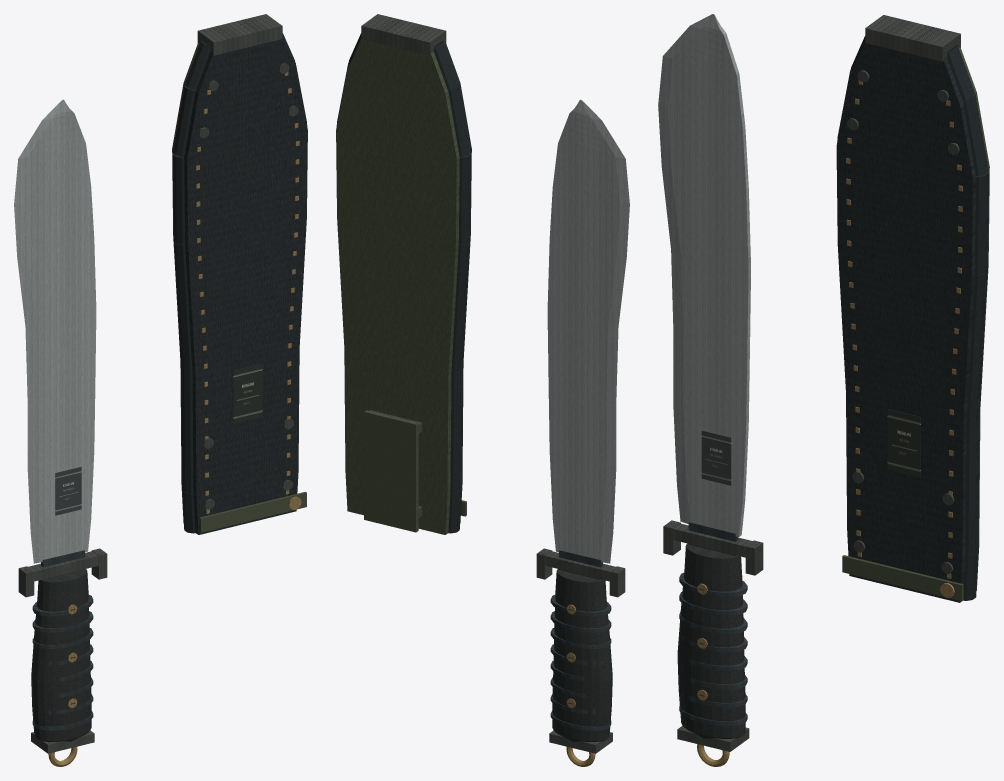
The model's file is PZ_Machete.glb.
The picture shows the model from 3 angles, left to right: view 1: azimuth 30°, elevation 25°; view 2: azimuth 150°, elevation 25°; view 3: azimuth 330°, elevation 25°; orthographic projection. The views are drawn at different scales.
Parts seen in each view (by area): view 1: Machete_Sheath_FrontPanel, Machete_Blade_BroadRecurve, Machete_Grip_NonslipCore, Machete_Sheath_TipGuard, Machete_Sheath_RetentionStrap, Machete_Sheath_BrandPlate, Machete_Sheath_SideReinforcement_L_3, Machete_Sheath_SideReinforcement_L_2, Machete_Blade_BrandPlate, Machete_Sheath_SideReinforcement_L_4, Machete_ChoilGuard, Machete_Sheath_SideReinforcement_L_5 (+3 smaller); view 2: Machete_Sheath_BackPanel, Machete_Blade_BroadRecurve, Machete_Grip_NonslipCore, Machete_Sheath_BeltLoop, Machete_Sheath_TipGuard, Machete_Sheath_SideReinforcement_L_3, Machete_Sheath_SideReinforcement_L_2, Machete_Sheath_SideReinforcement_L_4, Machete_ChoilGuard, Machete_Sheath_SideReinforcement_L_5, Machete_Sheath_FrontPanel, Machete_Grip_PommelLug (+1 smaller); view 3: Machete_Sheath_FrontPanel, Machete_Blade_BroadRecurve, Machete_Grip_NonslipCore, Machete_Sheath_TipGuard, Machete_Sheath_BrandPlate, Machete_Sheath_RetentionStrap, Machete_Sheath_SideReinforcement_R_3, Machete_Sheath_SideReinforcement_R_2, Machete_Blade_BrandPlate, Machete_Sheath_SideReinforcement_R_4, Machete_ChoilGuard, Machete_Sheath_SideReinforcement_R_5 (+5 smaller).
Part boxes in pixels (x1=…): Machete_Sheath_FrontPanel: x1=184, y1=39, x2=307, y2=534; Machete_Blade_BroadRecurve: x1=14, y1=99, x2=96, y2=563; Machete_Grip_NonslipCore: x1=31, y1=569, x2=91, y2=741; Machete_Sheath_TipGuard: x1=197, y1=14, x2=282, y2=55; Machete_Sheath_RetentionStrap: x1=199, y1=491, x2=306, y2=532; Machete_Sheath_BrandPlate: x1=233, y1=363, x2=262, y2=423; Machete_Sheath_SideReinforcement_L_3: x1=174, y1=242, x2=192, y2=371; Machete_Sheath_SideReinforcement_L_2: x1=181, y1=368, x2=193, y2=493; Machete_Blade_BrandPlate: x1=55, y1=466, x2=81, y2=515; Machete_Sheath_SideReinforcement_L_4: x1=172, y1=153, x2=185, y2=244; Machete_ChoilGuard: x1=28, y1=551, x2=98, y2=581; Machete_Sheath_SideReinforcement_L_5: x1=173, y1=85, x2=195, y2=156; Machete_Sheath_BackPanel: x1=336, y1=39, x2=459, y2=534; Machete_Blade_BroadRecurve: x1=547, y1=99, x2=629, y2=563; Machete_Grip_NonslipCore: x1=552, y1=569, x2=612, y2=741; Machete_Sheath_BeltLoop: x1=364, y1=410, x2=418, y2=532; Machete_Sheath_TipGuard: x1=361, y1=14, x2=446, y2=55; Machete_Sheath_SideReinforcement_L_3: x1=451, y1=242, x2=469, y2=371; Machete_Sheath_SideReinforcement_L_2: x1=450, y1=368, x2=462, y2=493; Machete_Sheath_SideReinforcement_L_4: x1=458, y1=153, x2=471, y2=244; Machete_ChoilGuard: x1=545, y1=551, x2=615, y2=581; Machete_Sheath_SideReinforcement_L_5: x1=448, y1=85, x2=470, y2=156; Machete_Sheath_FrontPanel: x1=444, y1=42, x2=471, y2=523; Machete_Grip_PommelLug: x1=549, y1=730, x2=612, y2=753; Machete_Sheath_FrontPanel: x1=836, y1=42, x2=976, y2=602; Machete_Blade_BroadRecurve: x1=658, y1=14, x2=750, y2=536; Machete_Grip_NonslipCore: x1=677, y1=543, x2=745, y2=738; Machete_Sheath_TipGuard: x1=865, y1=15, x2=960, y2=61; Machete_Sheath_BrandPlate: x1=887, y1=409, x2=920, y2=477; Machete_Sheath_RetentionStrap: x1=842, y1=555, x2=963, y2=601; Machete_Sheath_SideReinforcement_R_3: x1=967, y1=271, x2=987, y2=418; Machete_Sheath_SideReinforcement_R_2: x1=965, y1=415, x2=979, y2=555; Machete_Blade_BrandPlate: x1=701, y1=430, x2=731, y2=485; Machete_Sheath_SideReinforcement_R_4: x1=975, y1=172, x2=988, y2=275; Machete_ChoilGuard: x1=673, y1=523, x2=752, y2=557; Machete_Sheath_SideReinforcement_R_5: x1=963, y1=95, x2=988, y2=175.
Bounding box in the file's own units: 0.2801 × 0.6376 × 0.0444.
9 materials, 9 textured.
